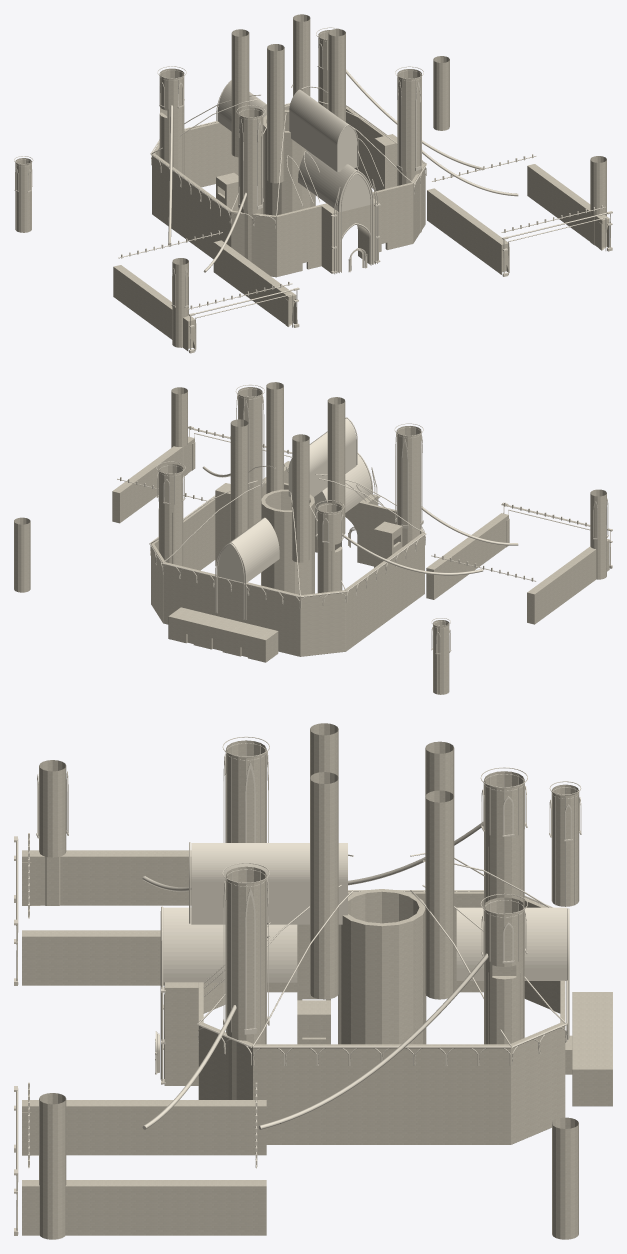
The model's file is Spaceport-01.glb.
3 renders of one model, top to bottom at view 1: azimuth 30°, elevation 25°; view 2: azimuth 150°, elevation 25°; view 3: azimuth 270°, elevation 25°, orthographic. The views are drawn at different scales.
Parts seen in each view (by area): view 1: NSP01.Native.1.2.Masonry, NSP01.Native.1.1.Ivory, NSP01.Native.1.0.Ivory; view 2: NSP01.Native.1.2.Masonry, NSP01.Native.1.1.Ivory, NSP01.Native.1.0.Ivory; view 3: NSP01.Native.1.2.Masonry, NSP01.Native.1.1.Ivory, NSP01.Native.1.0.Ivory.
Part boxes in pixels (x1,y1,x2,y2): NSP01.Native.1.2.Masonry: (15, 14, 609, 351); NSP01.Native.1.1.Ivory: (118, 69, 612, 353); NSP01.Native.1.0.Ivory: (14, 27, 423, 307); NSP01.Native.1.2.Masonry: (14, 382, 609, 694); NSP01.Native.1.1.Ivory: (117, 417, 612, 619); NSP01.Native.1.0.Ivory: (156, 384, 608, 694); NSP01.Native.1.2.Masonry: (22, 723, 612, 1239); NSP01.Native.1.1.Ivory: (14, 789, 569, 1235); NSP01.Native.1.0.Ivory: (36, 736, 581, 1034).
Bounding box in the file's own units: 482 × 204 × 353.
Materials: 2 (1 with a texture image).
